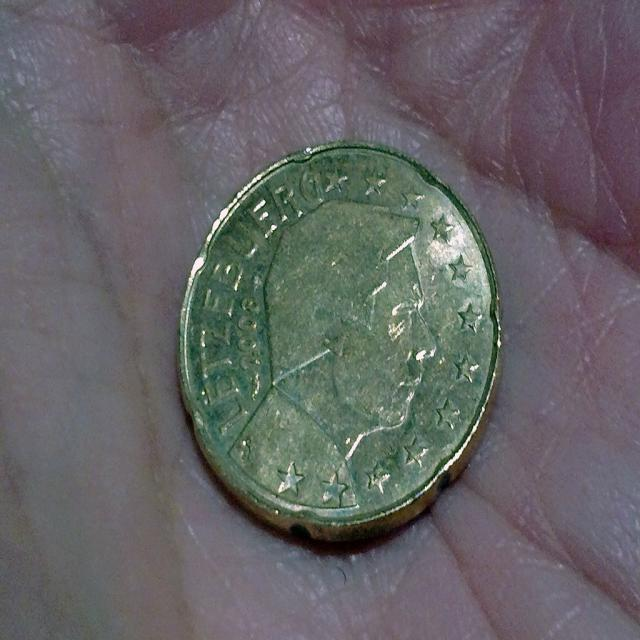Coin: (174, 141, 506, 551)
